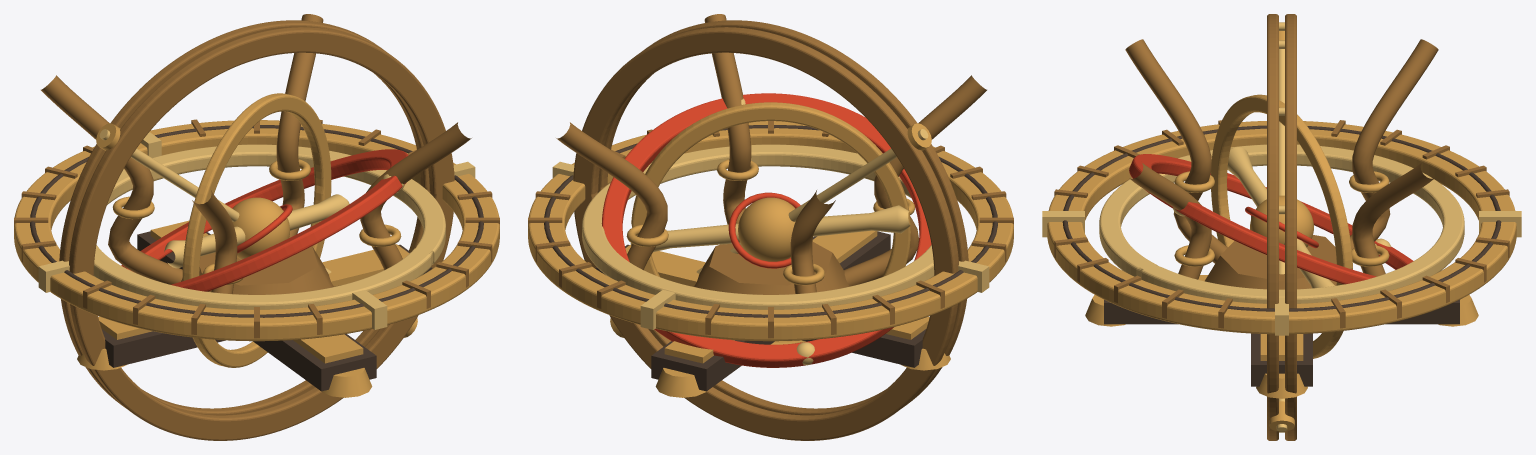
Rendered from ming_armillary.glb.
3 views of the same model, side by side, from view 1: azimuth 30°, elevation 25°; view 2: azimuth 150°, elevation 25°; view 3: azimuth 270°, elevation 25° (orthographic). The views are drawn at different scales.
Visible parts, largest first — view 1: meridian_ring, horizon_ring, dragon_base, equatorial_ring, sight_tube, ecliptic_ring_mesh_0; view 2: meridian_ring, horizon_ring, dragon_base, sight_tube, equatorial_ring, ecliptic_ring_mesh_0; view 3: horizon_ring, dragon_base, equatorial_ring, meridian_ring, sight_tube, ecliptic_ring_mesh_0.
Part boxes in pixels (x1,y1,x2,y2): meridian_ring: (59,20,454,440); horizon_ring: (14,119,499,341); dragon_base: (41,14,471,397); equatorial_ring: (93,144,445,309); sight_tube: (164,93,349,367); ecliptic_ring_mesh_0: (121,149,408,291); meridian_ring: (573,20,968,440); horizon_ring: (528,121,1013,341); dragon_base: (556,14,986,397); sight_tube: (630,102,910,344); equatorial_ring: (582,144,934,309); ecliptic_ring_mesh_0: (601,93,931,367); horizon_ring: (1042,120,1521,335); dragon_base: (1085,39,1478,398); equatorial_ring: (1099,144,1464,303); meridian_ring: (1267,14,1296,440); sight_tube: (1211,94,1352,358); ecliptic_ring_mesh_0: (1129,154,1413,284).
Size of the model in its own units: 2.02 by 1.8 by 2.02.
